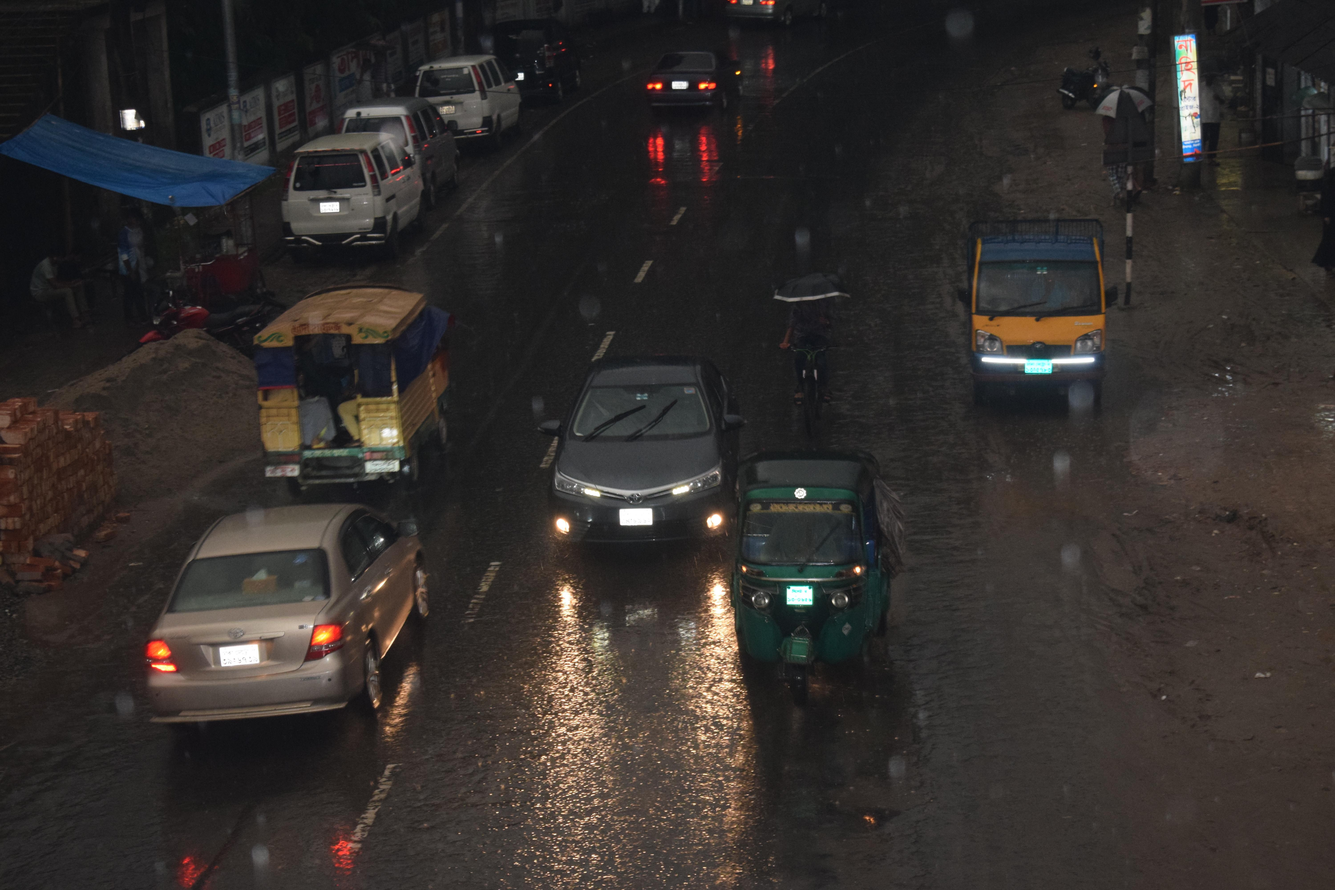Bike: (1035, 10, 1135, 131)
Car: (113, 475, 474, 779), (195, 259, 495, 510), (494, 335, 769, 577), (250, 118, 433, 275), (395, 39, 534, 166), (346, 85, 473, 200), (627, 28, 758, 134)
Truck: (926, 178, 1136, 437)
